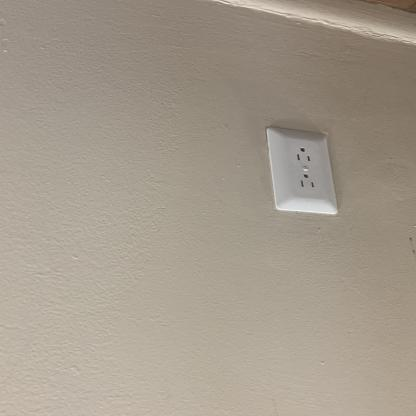OUTLET: (264, 128, 338, 212)
